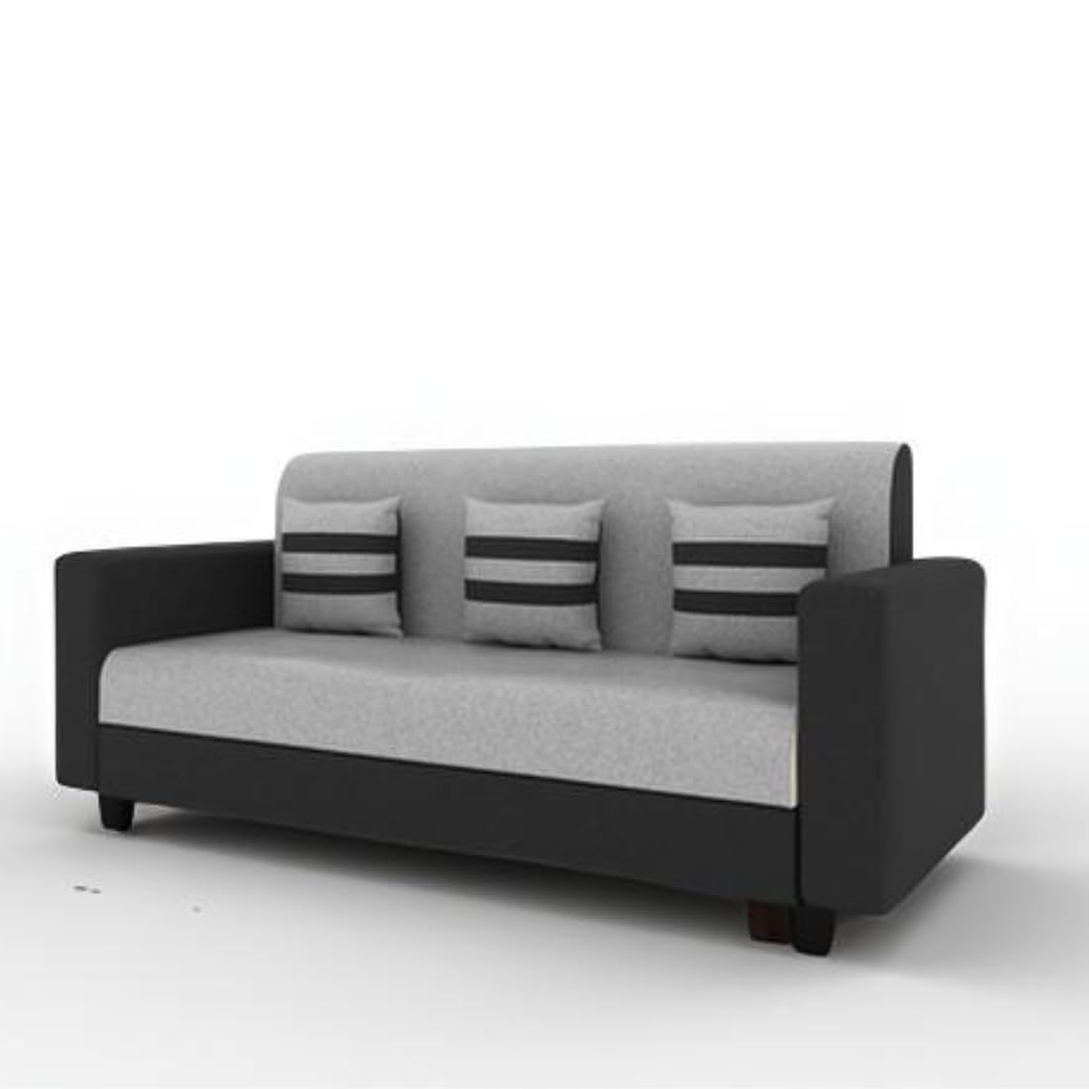3seatersofa: (56, 443, 984, 954)
backrest: (277, 441, 913, 651)
base: (92, 735, 799, 908)
leftarmrest: (799, 552, 988, 918)
leg: (792, 916, 834, 960), (99, 794, 136, 837)
pillow: (668, 495, 837, 656), (460, 502, 614, 653), (277, 497, 406, 634)
rightarmrest: (54, 540, 275, 782)
seat: (99, 629, 797, 802)
